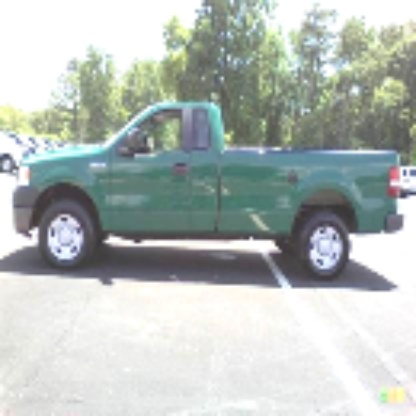Vehicle: (11, 101, 407, 281)
